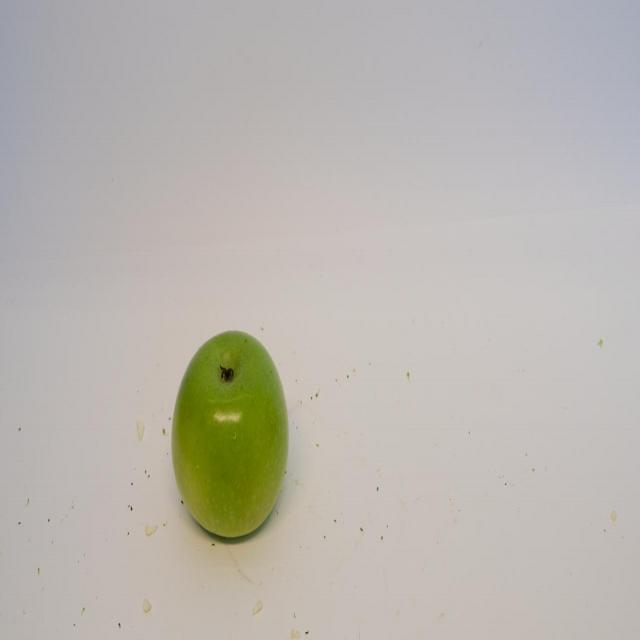apple: (177, 322, 286, 542)
